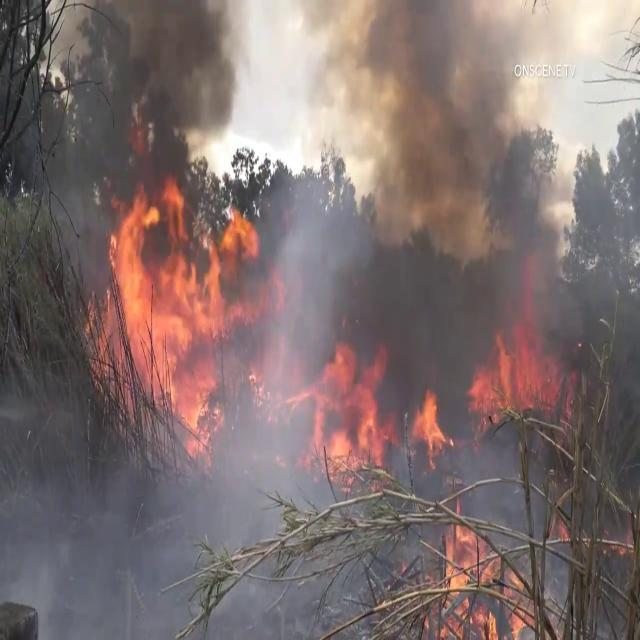Fire: (91, 180, 251, 430), (430, 497, 532, 639), (310, 330, 392, 484), (468, 315, 560, 425), (412, 384, 448, 460)
Smoke: (226, 2, 569, 490), (38, 1, 250, 231)
